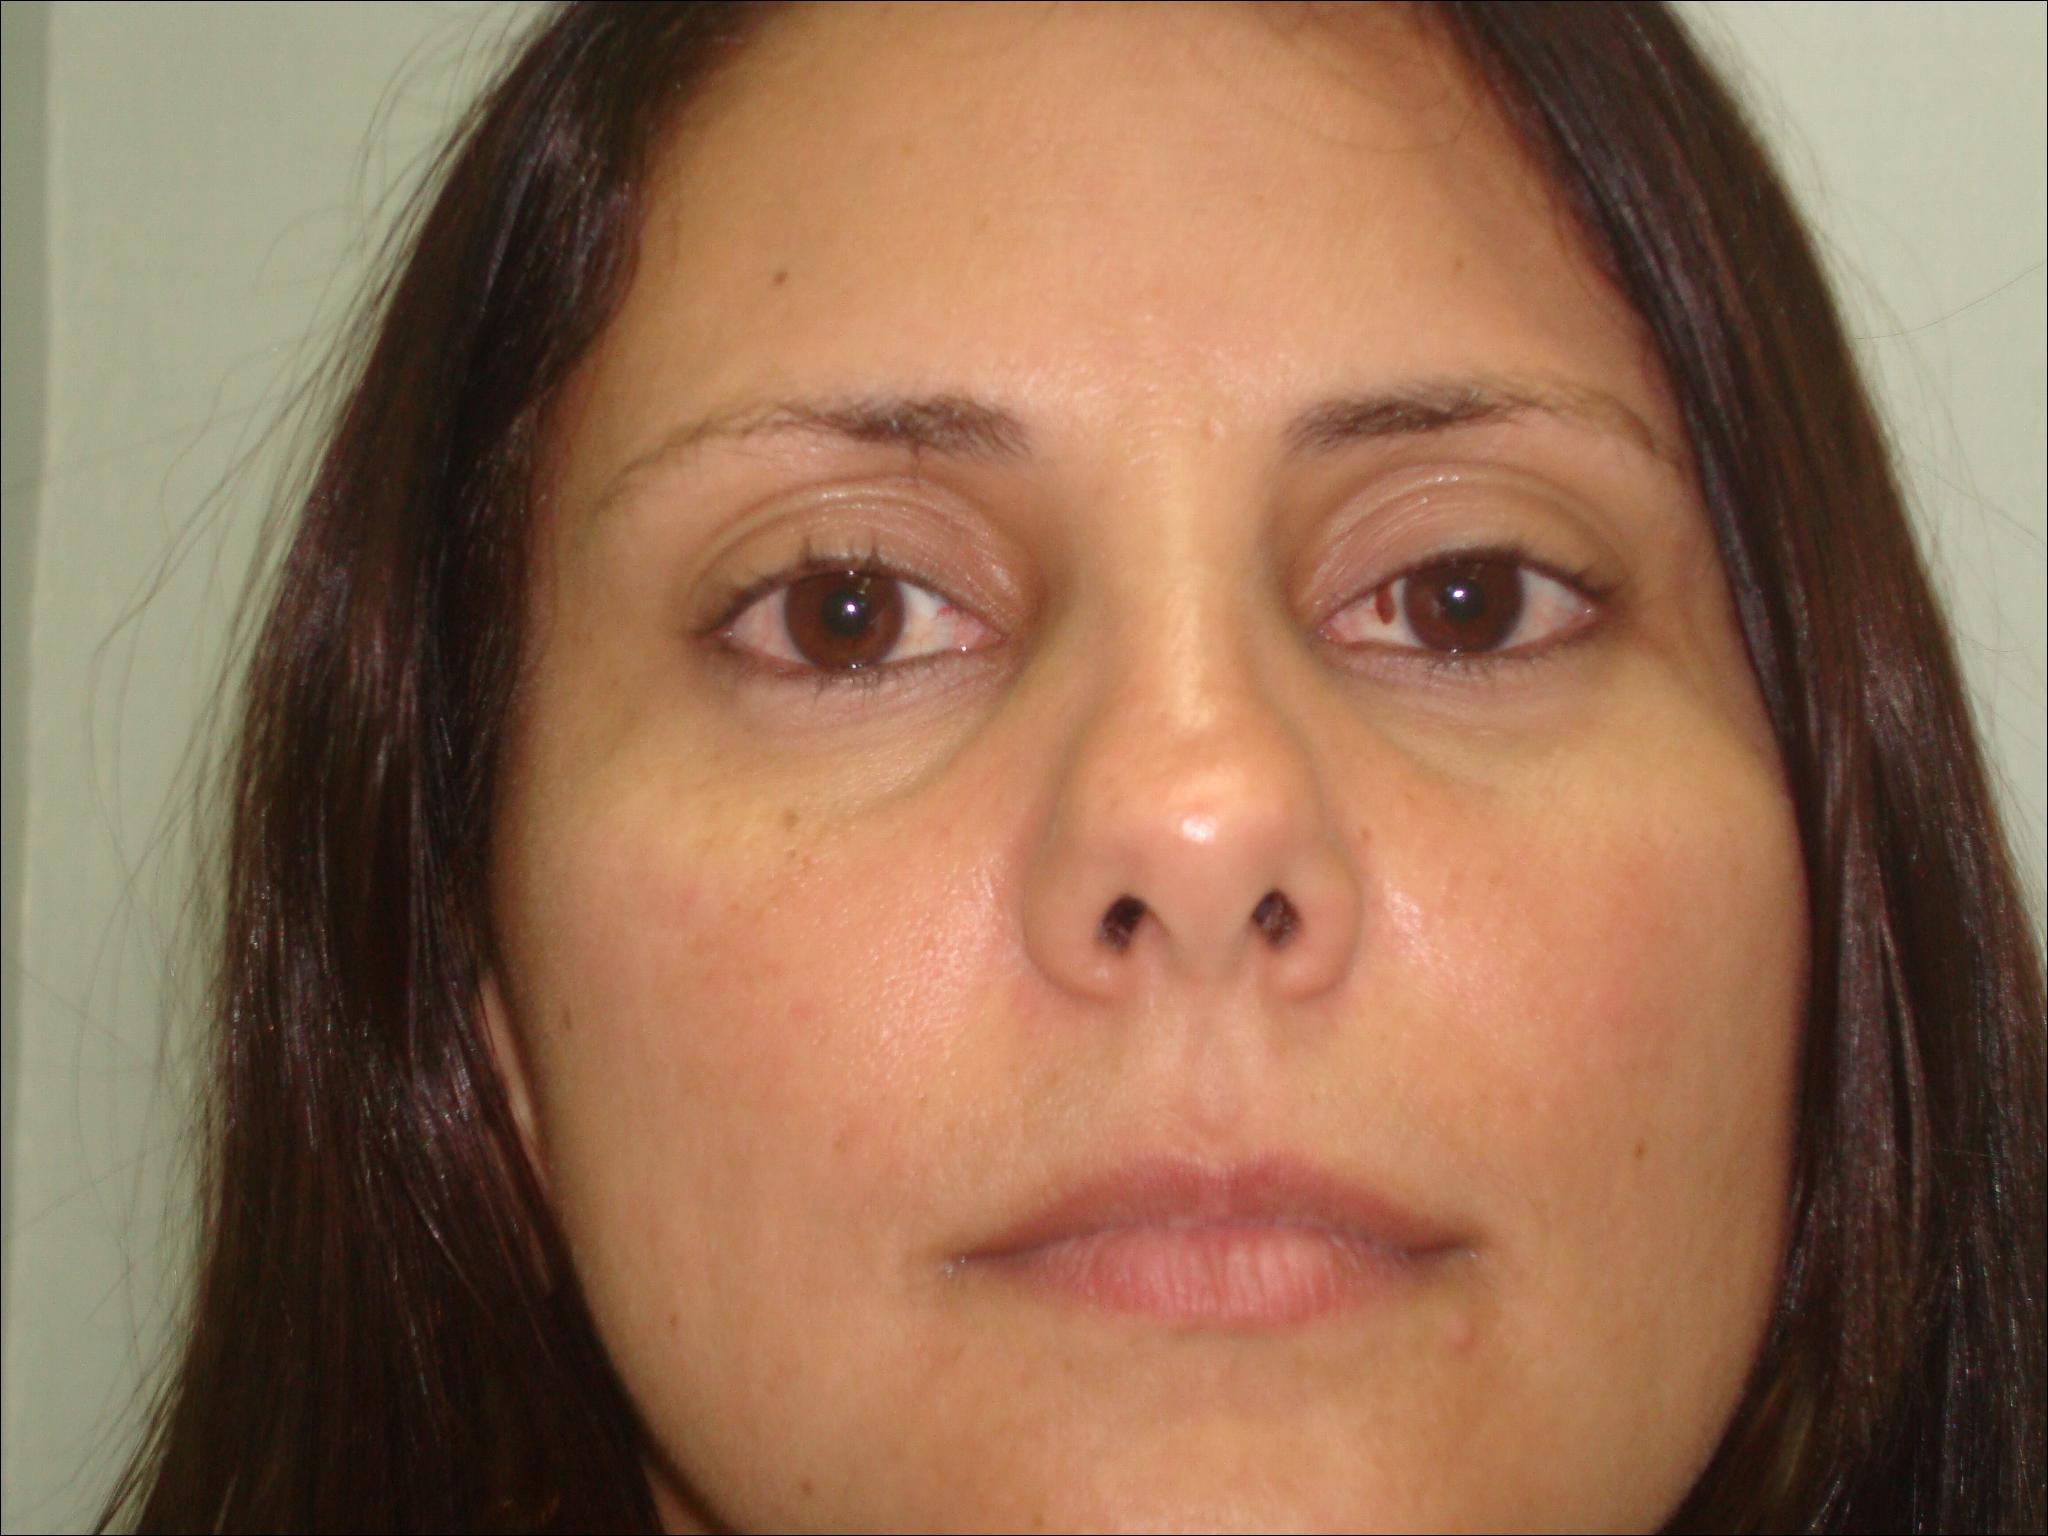flash: (842, 599, 860, 618), (1450, 584, 1467, 603)
limbo: (1405, 544, 1524, 653), (785, 560, 908, 666)
